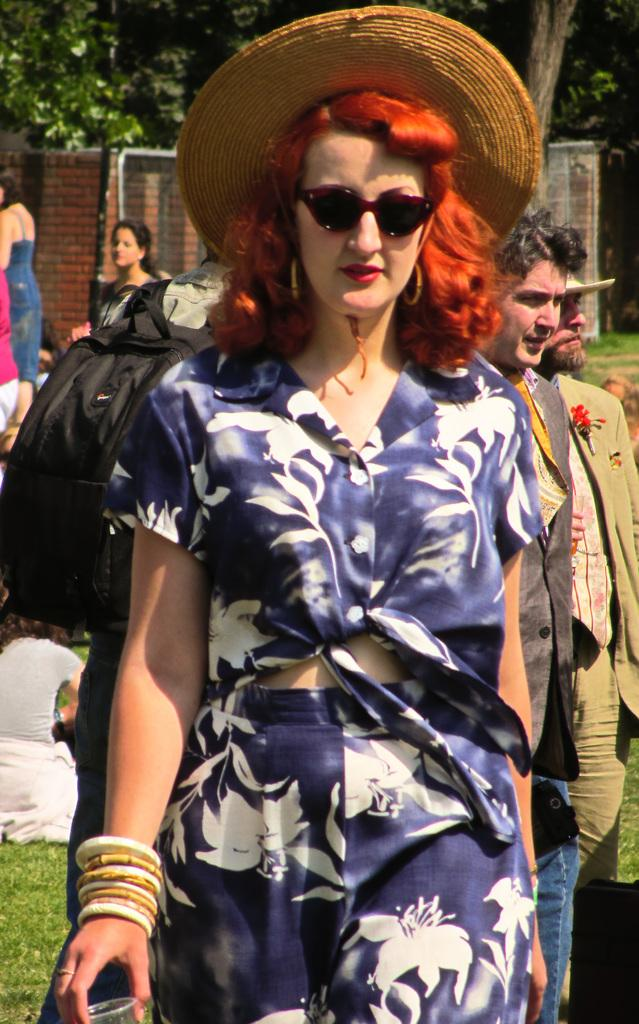Hat: (171, 0, 545, 263), (566, 270, 618, 296)
